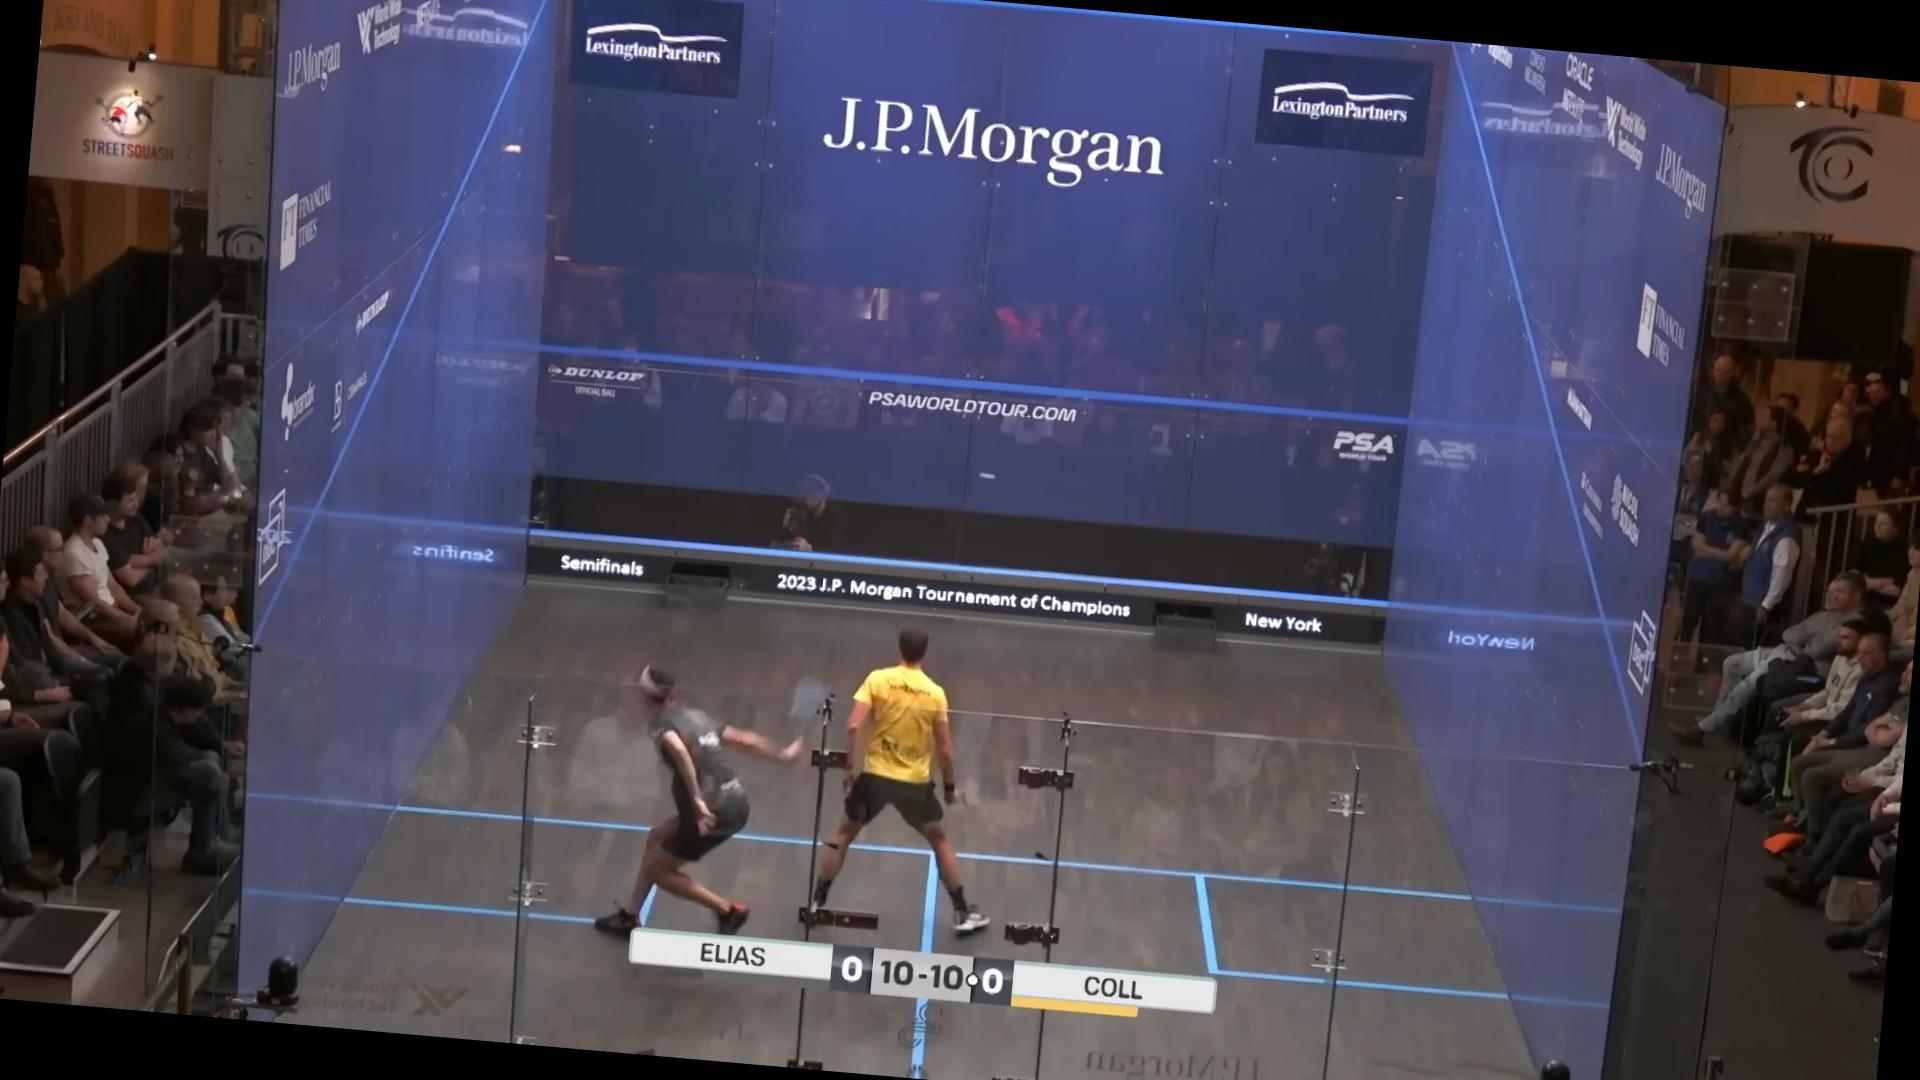Racket: (779, 665, 839, 754)
